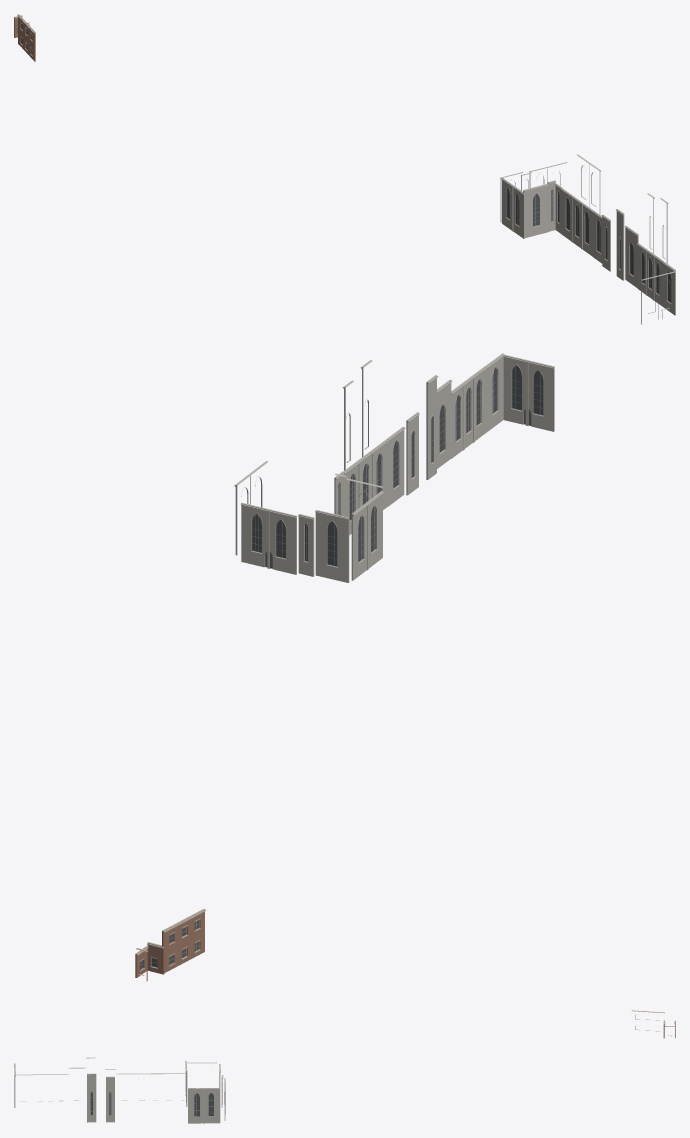
3 views of the same model, one above another, from view 1: azimuth 30°, elevation 25°; view 2: azimuth 150°, elevation 25°; view 3: azimuth 270°, elevation 25° (orthographic). The views are drawn at different scales.
Parts seen in each view (by area): view 1: f:way/161063746, f:way/161063786; view 2: f:way/161063746, f:way/161063786; view 3: f:way/161063746.
Part boxes in pixels (x1,y1,x2,y2): f:way/161063746: (500, 154, 675, 324); f:way/161063786: (14, 14, 35, 61); f:way/161063746: (234, 353, 554, 582); f:way/161063786: (135, 909, 206, 981); f:way/161063746: (14, 1057, 225, 1123).
Size of the model in its own units: 66.95 by 16.92 by 200.
